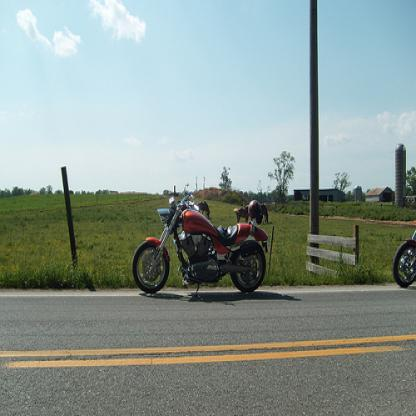horse: (234, 204, 249, 221), (197, 200, 211, 218), (260, 204, 270, 224)
motorbike: (131, 196, 268, 295), (393, 214, 415, 287)
